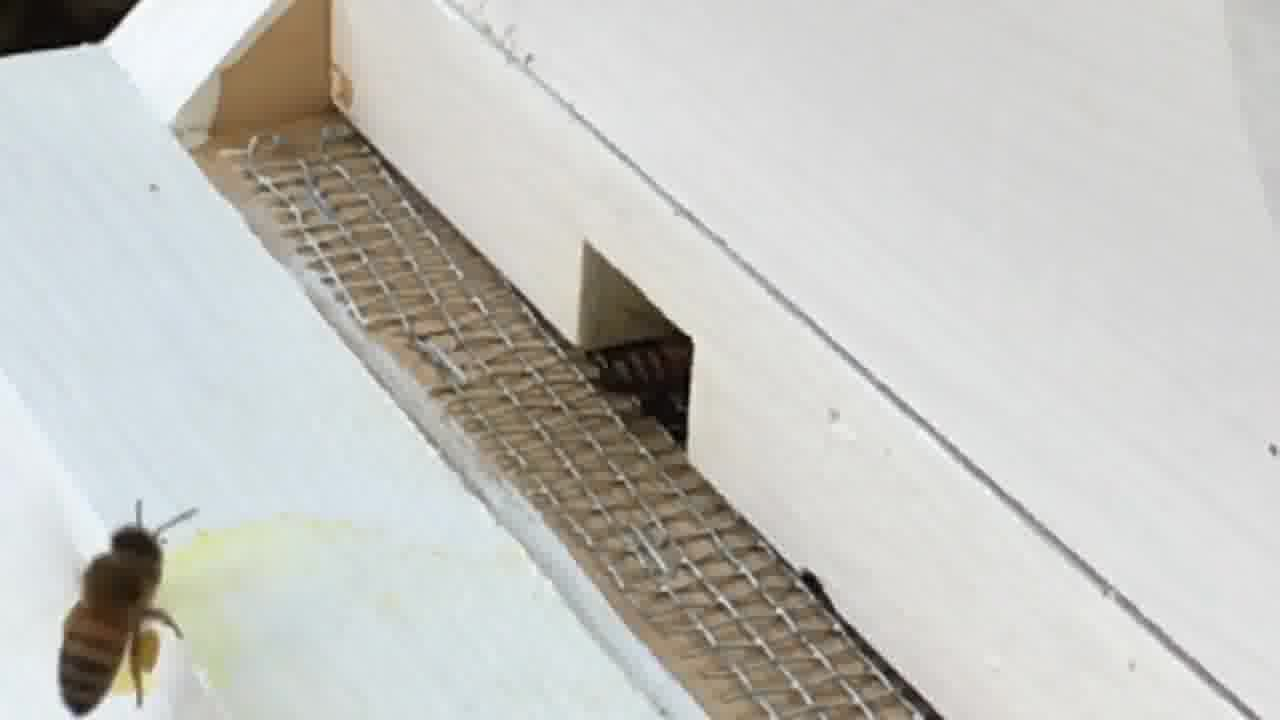pollen: (53, 514, 170, 713)
